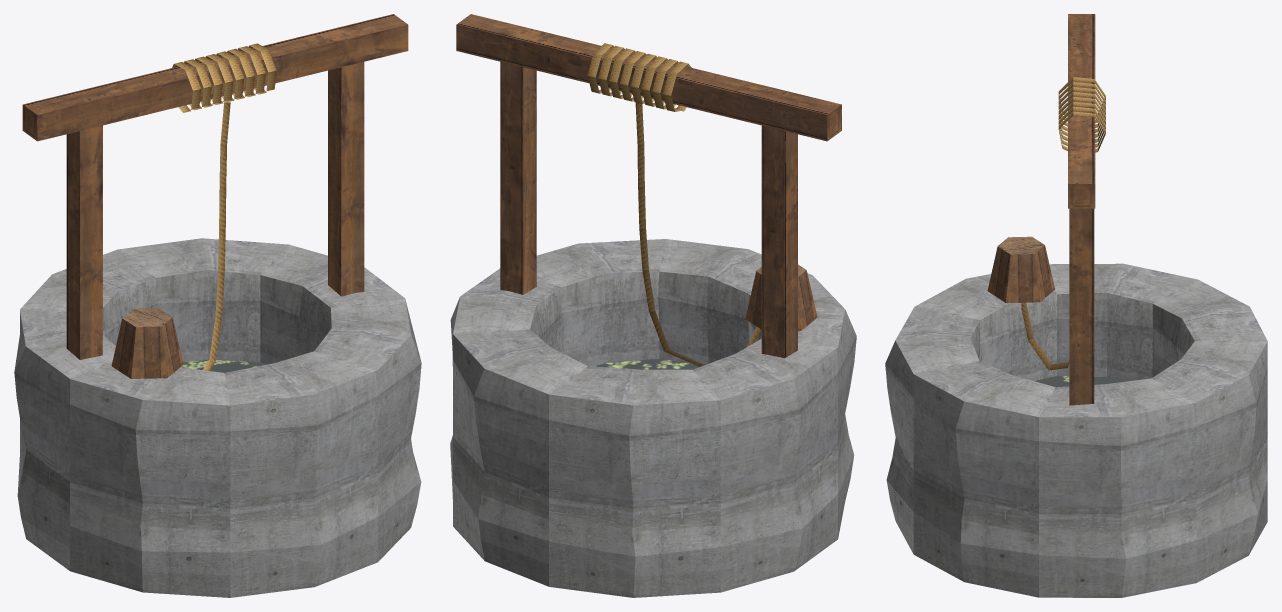
Rendered from Well.fbx.
3 renders of one model, left to right at view 1: azimuth 30°, elevation 25°; view 2: azimuth 150°, elevation 25°; view 3: azimuth 270°, elevation 25°, orthographic. The views are drawn at different scales.
Visible parts, largest first — view 1: Cube, Cube.001, Cube.002, Cylinder, Plane.001, Plane, Cylinder.001; view 2: Cube, Cube.001, Cube.002, Plane.001, Plane, Cylinder, Cylinder.001; view 3: Cube, Cube.001, Cube.002, Cylinder, Plane.001, Plane.
Part boxes in pixels (x1=…): Cube: x1=14, y1=238, x2=421, y2=597; Cube.001: x1=66, y1=62, x2=364, y2=359; Cube.002: x1=22, y1=14, x2=408, y2=141; Cylinder: x1=111, y1=308, x2=183, y2=378; Plane.001: x1=172, y1=43, x2=276, y2=112; Plane: x1=203, y1=102, x2=230, y2=370; Cylinder.001: x1=181, y1=360, x2=266, y2=372; Cube: x1=450, y1=239, x2=856, y2=597; Cube.001: x1=500, y1=61, x2=797, y2=358; Cube.002: x1=456, y1=14, x2=841, y2=141; Plane.001: x1=587, y1=43, x2=691, y2=111; Plane: x1=635, y1=102, x2=761, y2=366; Cylinder: x1=745, y1=264, x2=817, y2=331; Cylinder.001: x1=594, y1=359, x2=699, y2=369; Cube: x1=885, y1=263, x2=1267, y2=597; Cube.001: x1=1069, y1=208, x2=1094, y2=405; Cube.002: x1=1068, y1=14, x2=1095, y2=208; Cylinder: x1=987, y1=236, x2=1054, y2=302; Plane.001: x1=1058, y1=77, x2=1105, y2=152; Plane: x1=1021, y1=302, x2=1069, y2=370.
Size of the model in its own units: 598 by 703 by 569.
